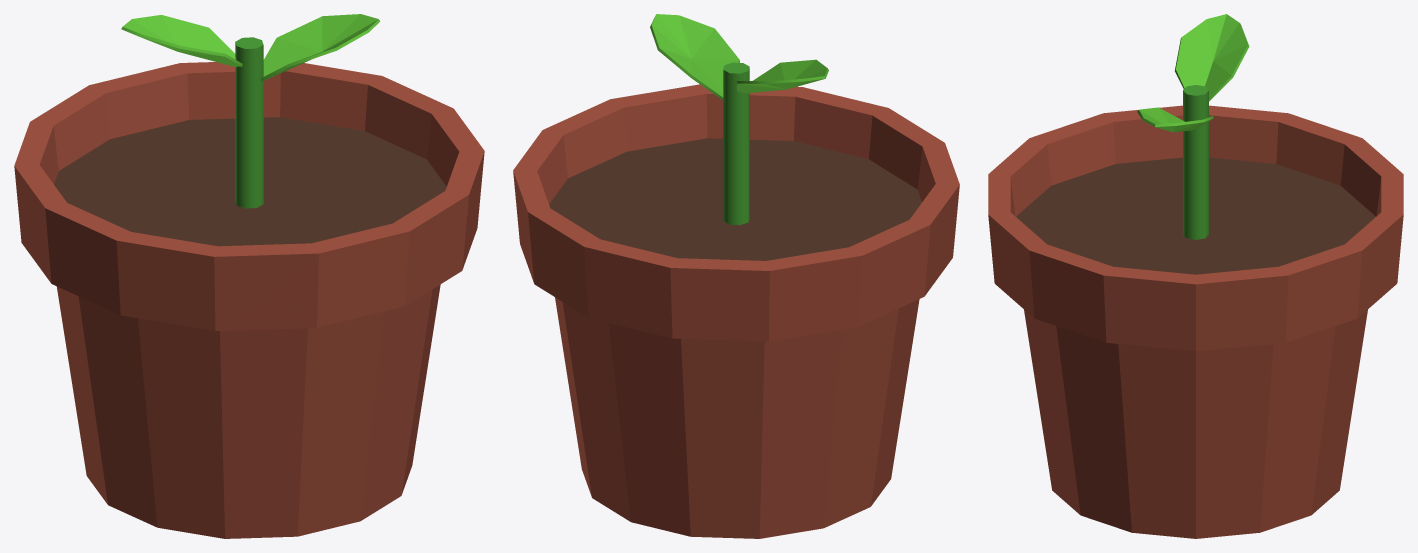
Rendered from Pot_L3.fbx.
3 renders of one model, left to right at view 1: azimuth 30°, elevation 25°; view 2: azimuth 150°, elevation 25°; view 3: azimuth 270°, elevation 25°, orthographic. The views are drawn at different scales.
Parts seen in each view (by area): view 1: L3_Pot, L3_Soil, L3_Stem, L3_Leaf_R, L3_Leaf_L; view 2: L3_Pot, L3_Soil, L3_Stem, L3_Leaf_R, L3_Leaf_L; view 3: L3_Pot, L3_Soil, L3_Leaf_L, L3_Stem, L3_Leaf_R.
Part boxes in pixels (x1,y1,x2,y2): L3_Pot: (14,62,484,538); L3_Soil: (54,117,446,246); L3_Stem: (235,37,263,208); L3_Leaf_R: (260,14,379,81); L3_Leaf_L: (121,15,242,67); L3_Pot: (513,84,959,538); L3_Soil: (549,138,921,260); L3_Stem: (723,62,749,225); L3_Leaf_R: (650,14,739,99); L3_Leaf_L: (736,59,828,93); L3_Pot: (988,105,1403,538); L3_Soil: (1016,157,1375,274); L3_Leaf_L: (1175,14,1249,101); L3_Stem: (1183,85,1208,239); L3_Leaf_R: (1137,107,1213,132).
Bounding box in the file's own units: 26 × 27.88 × 25.35.
